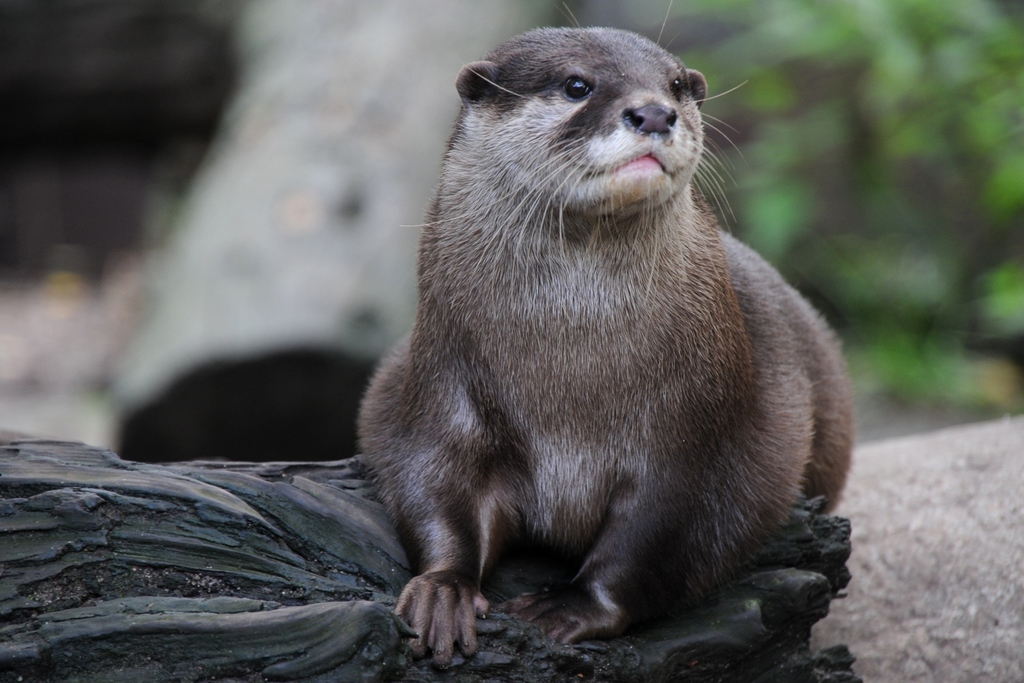otter: (341, 13, 866, 680)
